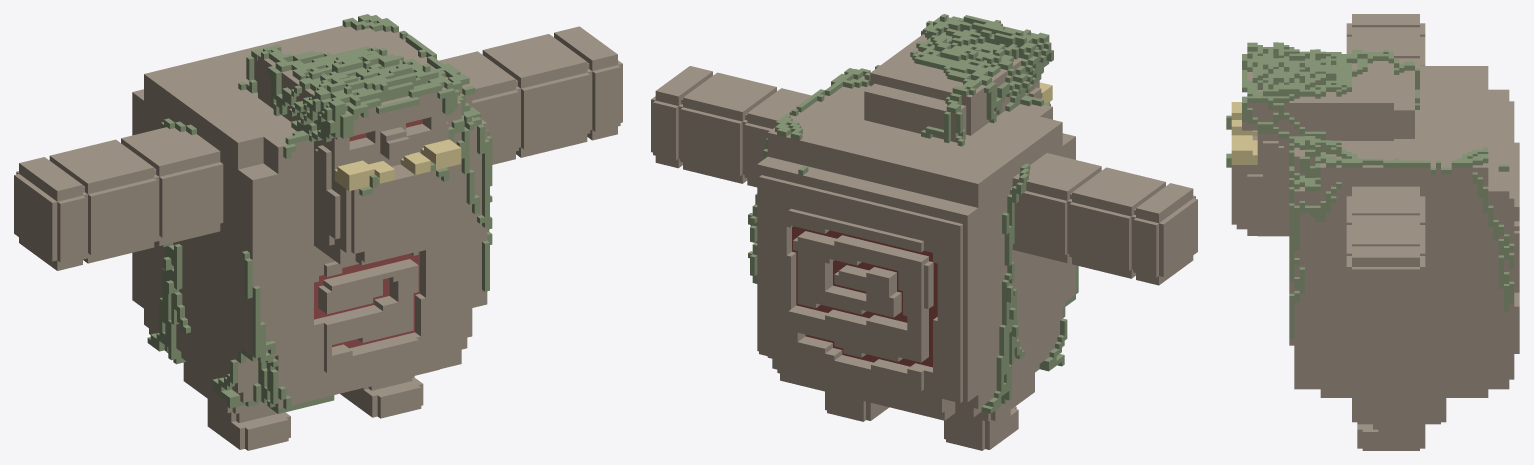
The model's file is Golem.obj.
3 views of the same model, side by side, from view 1: azimuth 30°, elevation 25°; view 2: azimuth 150°, elevation 25°; view 3: azimuth 270°, elevation 25° (orthographic). The views are drawn at different scales.
Bounding box in the file's own units: 11.2 × 7.3 × 5.6.
